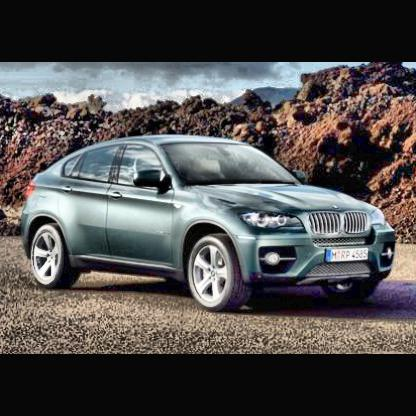BMW X6 SUV 2012: (16, 130, 402, 317)
